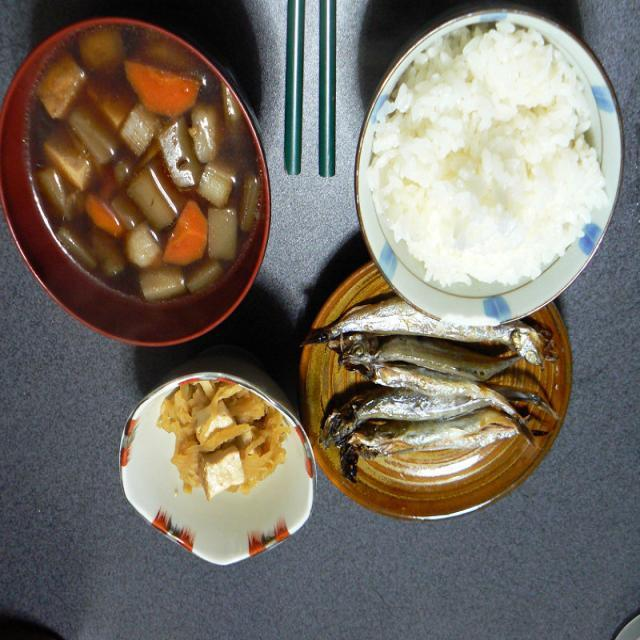Rice: (370, 18, 606, 298)
